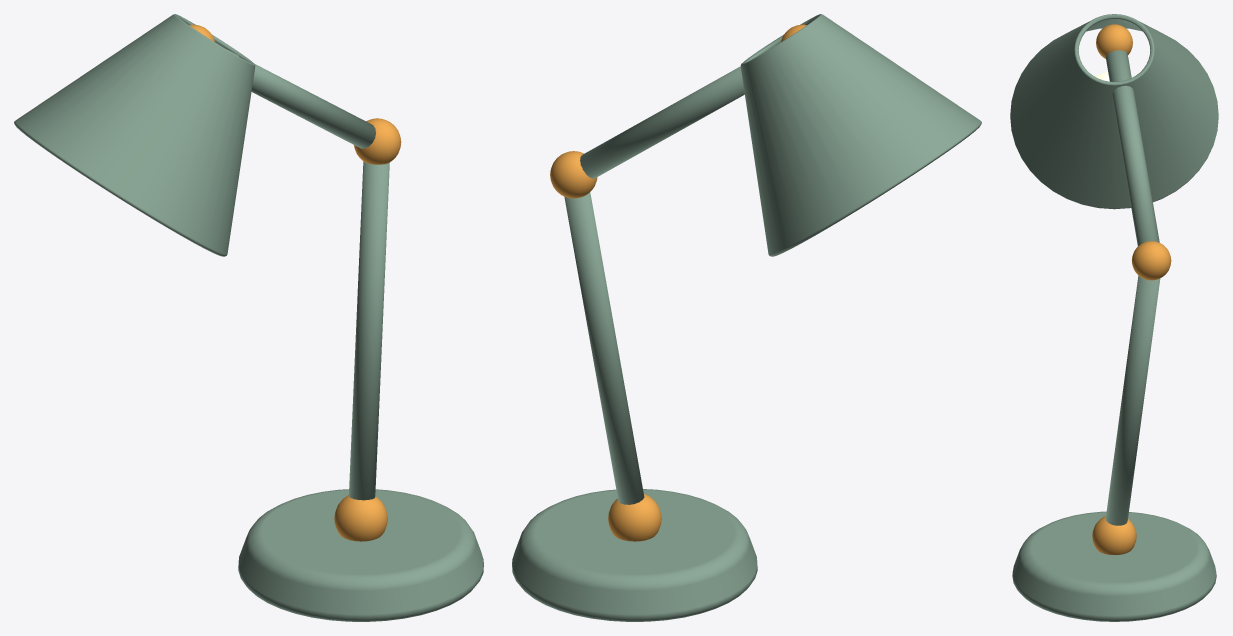
The model's file is lamp.glb.
The picture shows the model from 3 angles, left to right: view 1: azimuth 30°, elevation 25°; view 2: azimuth 150°, elevation 25°; view 3: azimuth 270°, elevation 25°; orthographic projection. The views are drawn at different scales.
Parts seen in each view (by area): view 1: Shade, LampBase, LampArmLow, LampArmHigh, LampJointLow, LampJointMid; view 2: Shade, LampBase, LampArmLow, LampArmHigh, LampJointLow, LampJointMid; view 3: Shade, LampBase, LampArmLow, LampArmHigh, LampJointLow, LampJointMid, LampJointHead.
Boxes of the visible parts, x1,y1,x2,y2 form: Shade: (14,14,255,256); LampBase: (238,489,483,621); LampArmLow: (348,161,389,500); LampArmHigh: (226,49,375,148); LampJointLow: (334,495,387,541); LampJointMid: (354,118,401,164); Shade: (740,14,981,256); LampBase: (512,489,757,621); LampArmLow: (564,192,644,504); LampArmHigh: (580,66,744,178); LampJointLow: (608,494,661,541); LampJointMid: (550,151,597,198); Shade: (1010,14,1218,209); LampBase: (1012,511,1216,621); LampArmLow: (1105,275,1160,525); LampArmHigh: (1105,50,1159,245); LampJointLow: (1092,516,1136,554); LampJointMid: (1131,241,1171,280); LampJointHead: (1096,24,1132,58).
Bounding box in the file's own units: 0.336 × 0.4414 × 0.1688.
